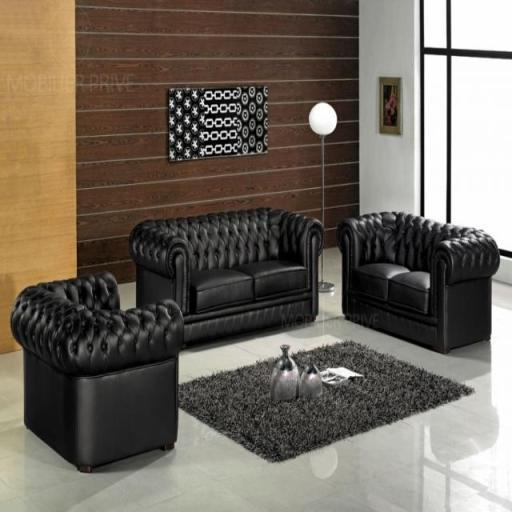sofa: (16, 246, 231, 478), (348, 198, 512, 374)
